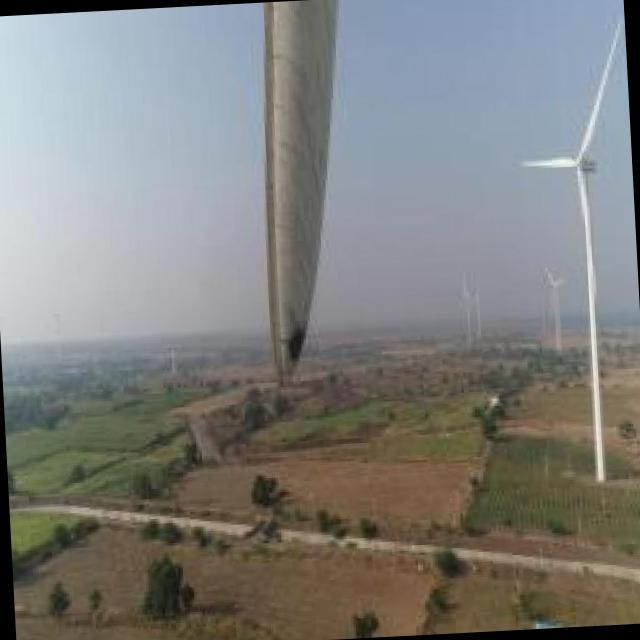Dirt: (271, 0, 336, 365)
Oil LEAKAGE: (281, 328, 309, 361)
